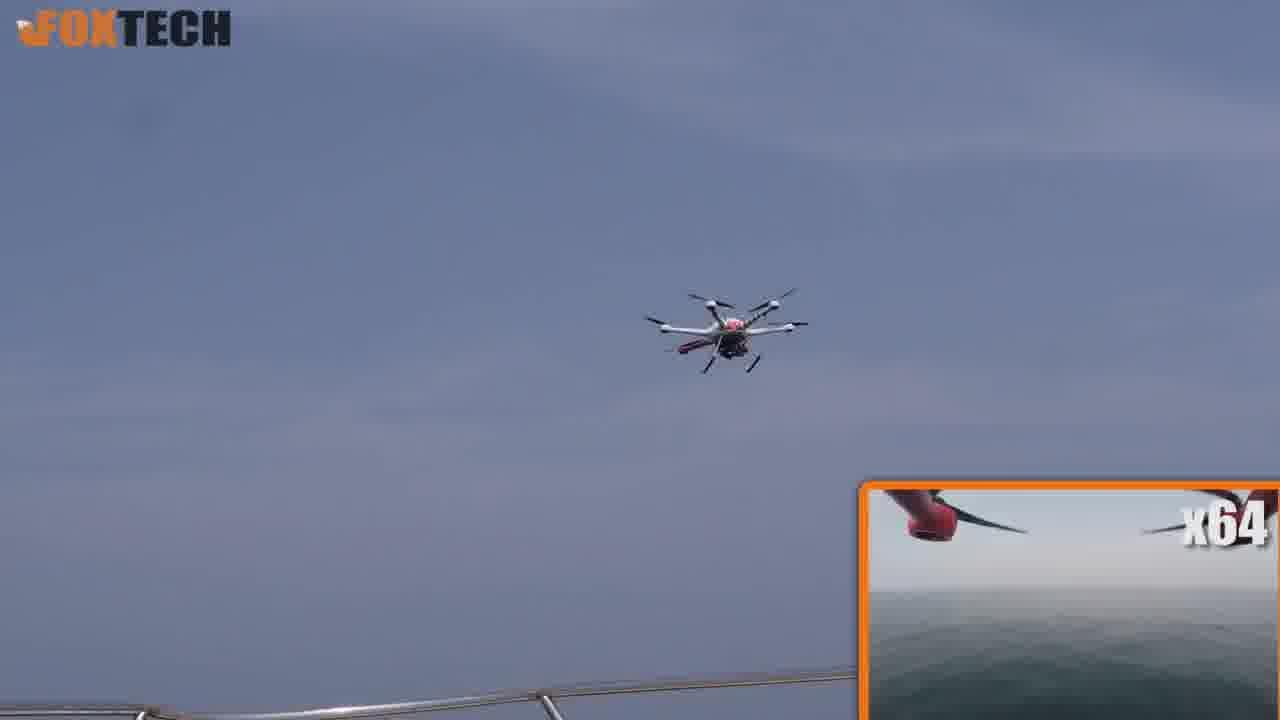drone: (629, 278, 819, 383)
